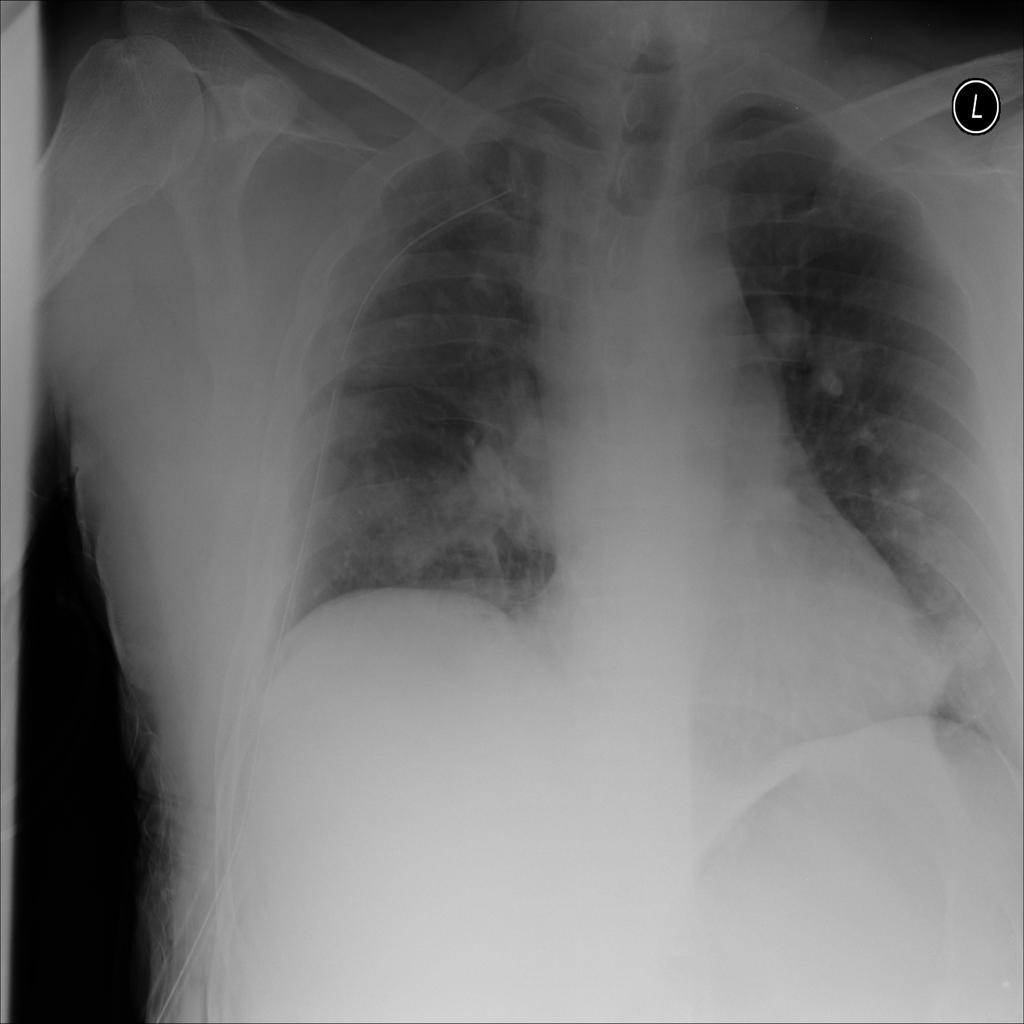nodule: (802, 316, 879, 404), (379, 510, 456, 591), (743, 286, 821, 365), (726, 472, 806, 547), (877, 462, 951, 539), (933, 603, 1007, 680)
